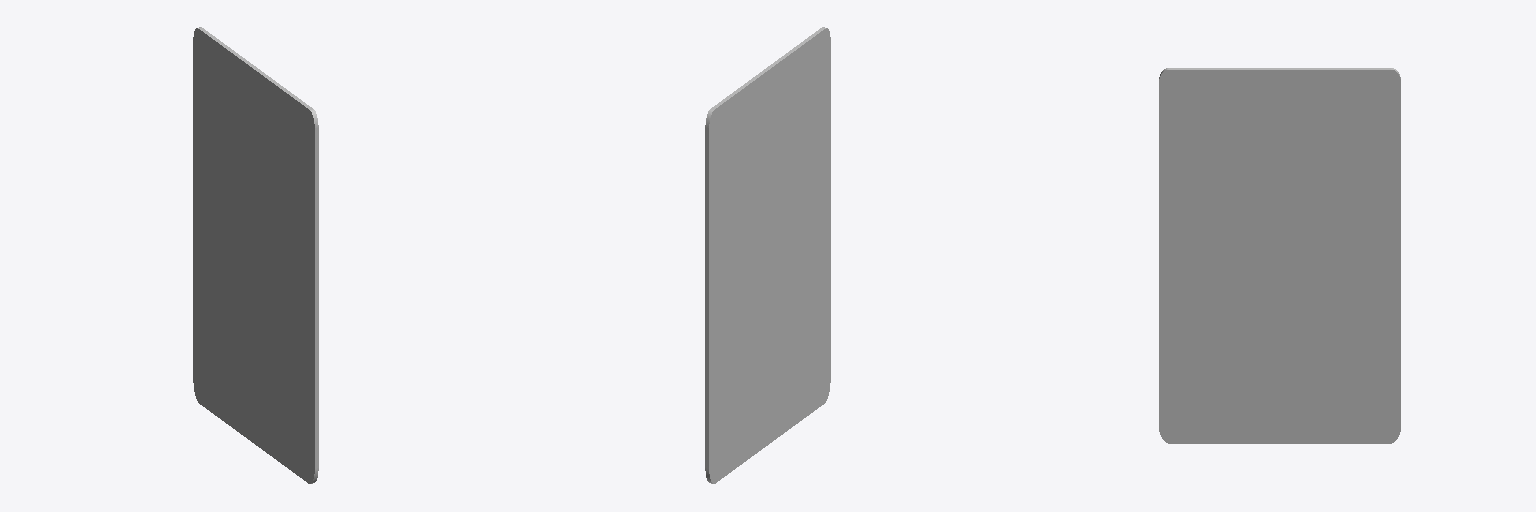
Rendered from card.obj.
3 views of the same model, side by side, from view 1: azimuth 30°, elevation 25°; view 2: azimuth 150°, elevation 25°; view 3: azimuth 270°, elevation 25° (orthographic).
Visible parts, largest first — view 1: Куб; view 2: Куб; view 3: Куб.
Part boxes in pixels (x1,y1,x2,y2): Куб: (193,27,318,483); Куб: (705,27,830,483); Куб: (1159,68,1400,443).
Size of the model in its own units: 0.02 by 1.84 by 1.08.